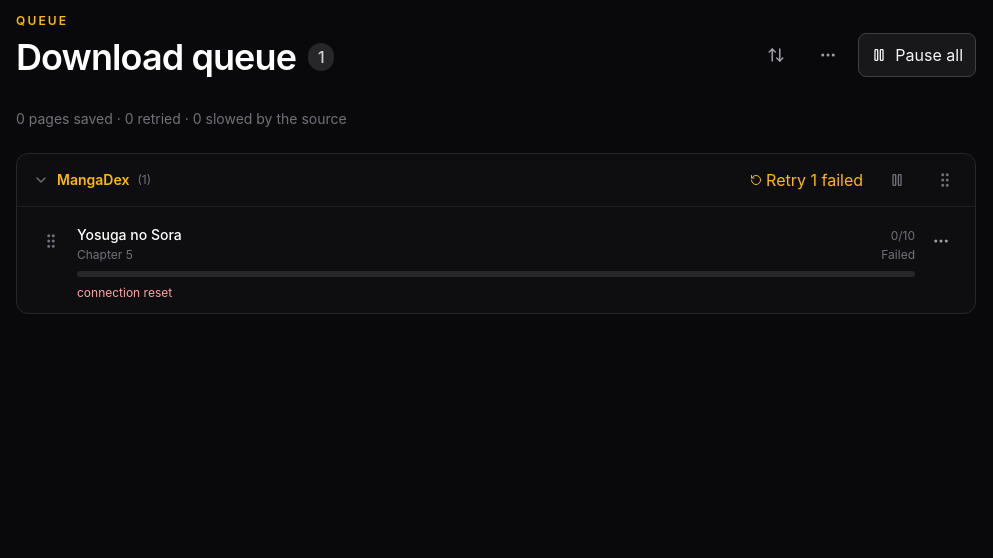
Scenario: DownloadsPage › retries a failed row
Check: the text "connection reset" is shown, box top-left (77, 285), bottom-right (172, 300)
Click the button named "Actions for Chapter 5 of Yosuga no Sora". click: (941, 241)
box: top-left (919, 219), bottom-right (963, 263)
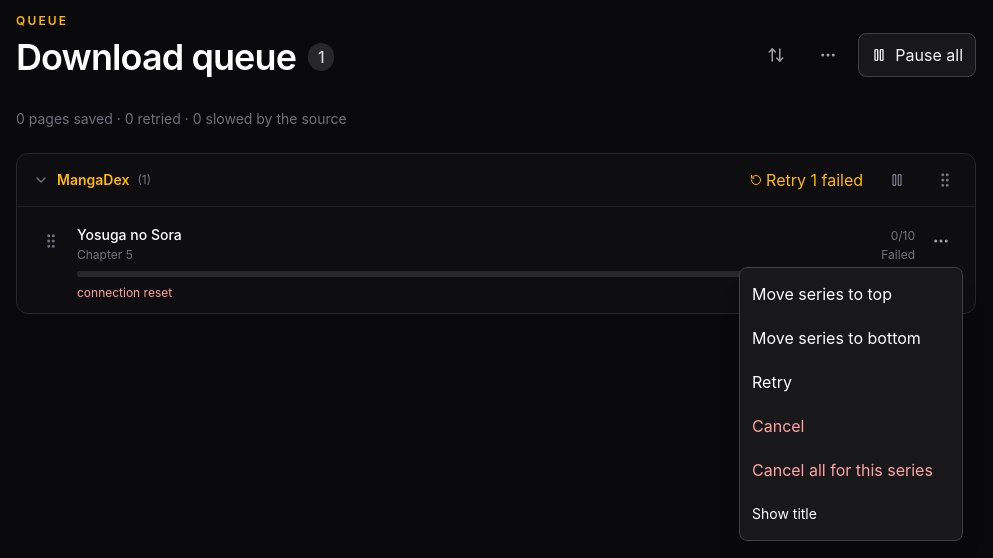
Click the menu item "Retry". click: (851, 382)
box: top-left (744, 360), bottom-right (958, 404)
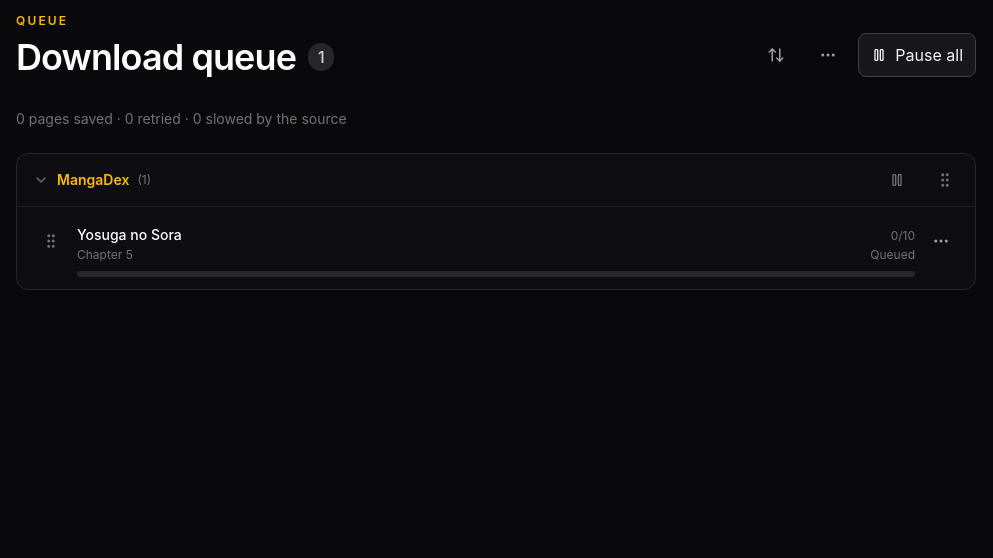
Check: the text "Queued" is shown, box top-left (870, 247), bottom-right (915, 263)
